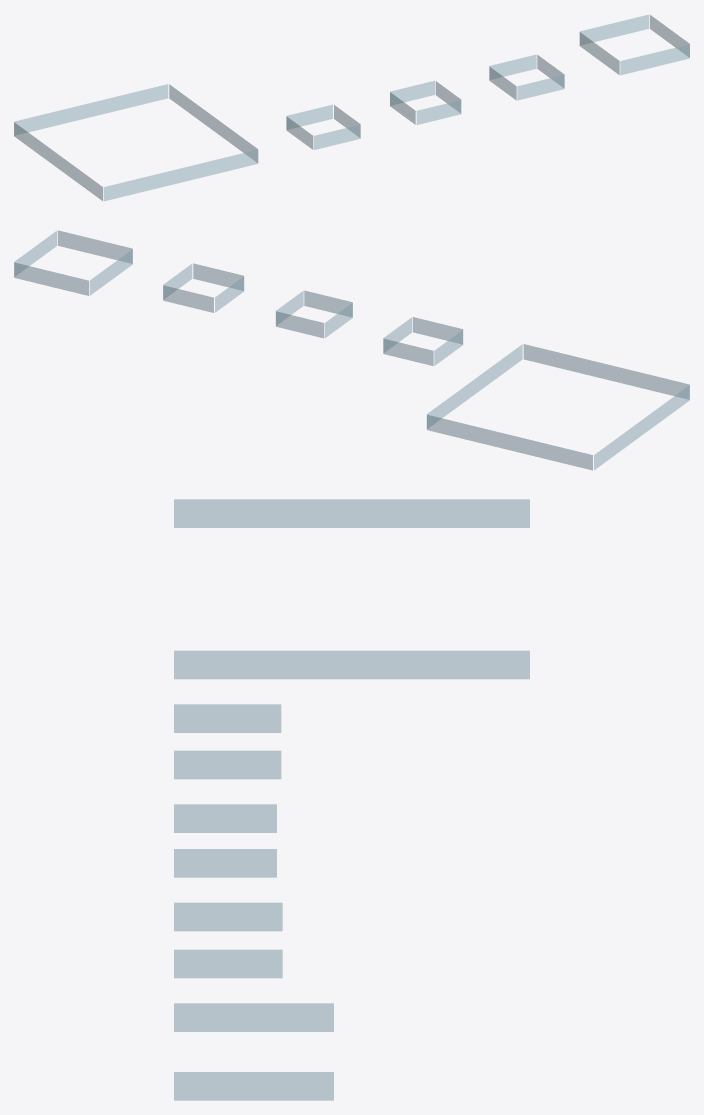
The model's file is fenestration.glb.
The picture shows the model from 3 angles, top to bottom: view 1: azimuth 30°, elevation 25°; view 2: azimuth 150°, elevation 25°; view 3: azimuth 270°, elevation 25°; orthographic projection. The views are drawn at different scales.
Visible parts, largest first — view 1: window_block_open_office_storey_0_wall_0001_window, window_block_open_office_storey_0_wall_0003_window, window_block_open_office_storey_0_wall_0002_window, window_block_open_office_storey_0_wall_0004_window, window_block_circulation_storey_0_wall_0001_window, window_block_circulation_storey_0_wall_0003_window, window_block_amenity_storey_0_wall_0001_window, window_block_amenity_storey_0_wall_0003_window, window_block_office_storey_0_wall_0001_window, window_block_meeting_storey_0_wall_0001_window, window_block_office_storey_0_wall_0003_window, window_block_meeting_storey_0_wall_0003_window (+8 smaller); view 2: window_block_open_office_storey_0_wall_0001_window, window_block_open_office_storey_0_wall_0003_window, window_block_open_office_storey_0_wall_0002_window, window_block_open_office_storey_0_wall_0004_window, window_block_circulation_storey_0_wall_0003_window, window_block_circulation_storey_0_wall_0001_window, window_block_amenity_storey_0_wall_0003_window, window_block_office_storey_0_wall_0003_window, window_block_amenity_storey_0_wall_0001_window, window_block_office_storey_0_wall_0001_window, window_block_meeting_storey_0_wall_0003_window, window_block_meeting_storey_0_wall_0001_window (+8 smaller); view 3: window_block_open_office_storey_0_wall_0002_window, window_block_open_office_storey_0_wall_0004_window, window_block_circulation_storey_0_wall_0002_window, window_block_circulation_storey_0_wall_0004_window, window_block_amenity_storey_0_wall_0002_window, window_block_amenity_storey_0_wall_0004_window, window_block_office_storey_0_wall_0002_window, window_block_office_storey_0_wall_0004_window, window_block_meeting_storey_0_wall_0002_window, window_block_meeting_storey_0_wall_0004_window.
Part boxes in pixels (box(x1,y1,x2,y2)): window_block_open_office_storey_0_wall_0001_window: box(103, 149, 257, 201); window_block_open_office_storey_0_wall_0003_window: box(14, 84, 168, 135); window_block_open_office_storey_0_wall_0002_window: box(169, 84, 258, 162); window_block_open_office_storey_0_wall_0004_window: box(14, 122, 102, 200); window_block_circulation_storey_0_wall_0001_window: box(620, 44, 689, 74); window_block_circulation_storey_0_wall_0003_window: box(580, 14, 649, 45); window_block_amenity_storey_0_wall_0001_window: box(517, 75, 564, 100); window_block_amenity_storey_0_wall_0003_window: box(489, 54, 536, 79); window_block_office_storey_0_wall_0001_window: box(314, 125, 360, 149); window_block_meeting_storey_0_wall_0001_window: box(416, 100, 461, 124); window_block_office_storey_0_wall_0003_window: box(287, 104, 332, 129); window_block_meeting_storey_0_wall_0003_window: box(390, 81, 434, 105); window_block_open_office_storey_0_wall_0001_window: box(523, 344, 689, 399); window_block_open_office_storey_0_wall_0003_window: box(427, 415, 592, 470); window_block_open_office_storey_0_wall_0002_window: box(426, 344, 522, 428); window_block_open_office_storey_0_wall_0004_window: box(594, 385, 689, 469); window_block_circulation_storey_0_wall_0003_window: box(14, 262, 88, 295); window_block_circulation_storey_0_wall_0001_window: box(58, 230, 132, 263); window_block_amenity_storey_0_wall_0003_window: box(163, 285, 213, 312); window_block_office_storey_0_wall_0003_window: box(383, 339, 433, 365); window_block_amenity_storey_0_wall_0001_window: box(193, 263, 243, 290); window_block_office_storey_0_wall_0001_window: box(413, 317, 462, 343); window_block_meeting_storey_0_wall_0003_window: box(276, 311, 324, 338); window_block_meeting_storey_0_wall_0001_window: box(304, 290, 352, 316); window_block_open_office_storey_0_wall_0002_window: box(174, 650, 529, 679); window_block_open_office_storey_0_wall_0004_window: box(174, 499, 529, 527); window_block_circulation_storey_0_wall_0002_window: box(174, 1072, 333, 1100); window_block_circulation_storey_0_wall_0004_window: box(174, 1003, 333, 1031); window_block_amenity_storey_0_wall_0002_window: box(174, 949, 282, 978); window_block_amenity_storey_0_wall_0004_window: box(174, 902, 282, 931); window_block_office_storey_0_wall_0002_window: box(174, 750, 281, 779); window_block_office_storey_0_wall_0004_window: box(174, 704, 281, 732); window_block_meeting_storey_0_wall_0002_window: box(174, 849, 276, 877); window_block_meeting_storey_0_wall_0004_window: box(174, 804, 276, 832).
Bounding box in the file's own units: 52.45 × 1.22 × 13.87.
